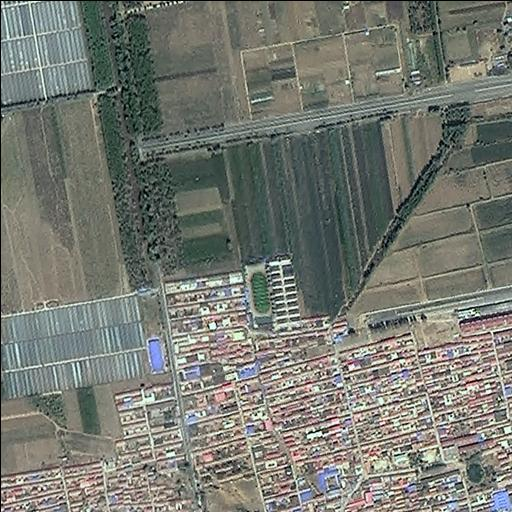school: (244, 252, 303, 329)
